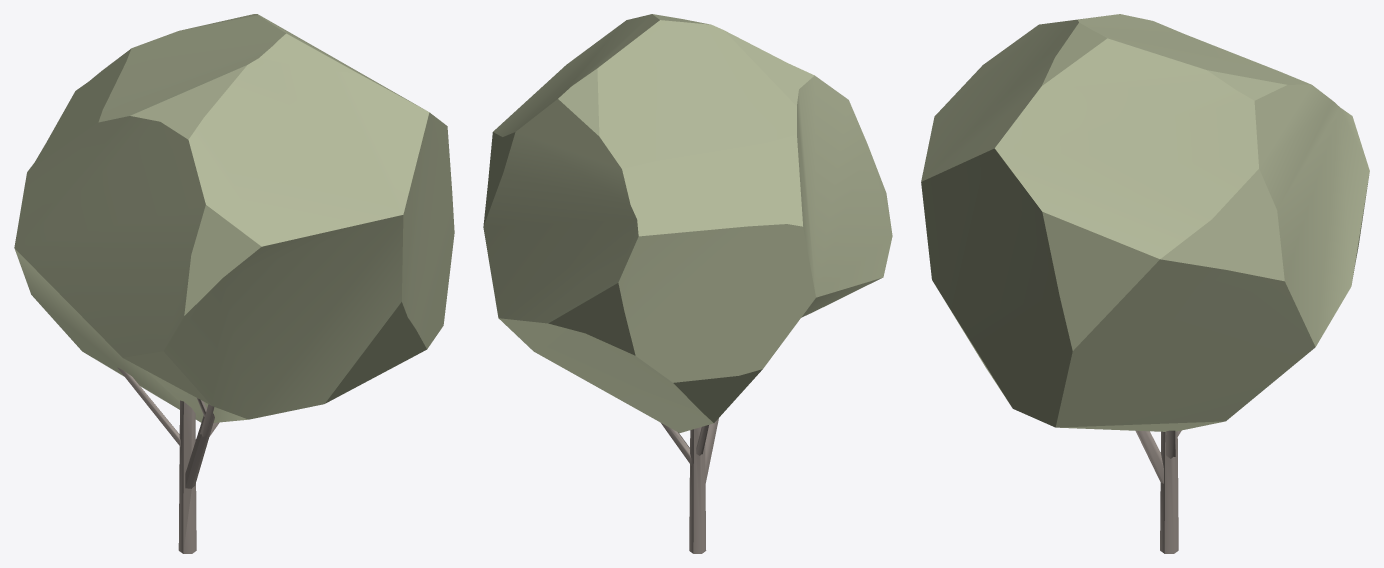
Rendered from tree10.dae.
3 views of the same model, side by side, from view 1: azimuth 30°, elevation 25°; view 2: azimuth 150°, elevation 25°; view 3: azimuth 270°, elevation 25° (orthographic). The views are drawn at different scales.
Parts seen in each view (by area): view 1: SketchUp, SketchUp_001; view 2: SketchUp, SketchUp_001; view 3: SketchUp, SketchUp_001.
Boxes of the visible parts, x1=… form: SketchUp: x1=14, y1=14, x2=454, y2=422; SketchUp_001: x1=117, y1=367, x2=219, y2=553; SketchUp: x1=483, y1=14, x2=892, y2=433; SketchUp_001: x1=661, y1=418, x2=718, y2=553; SketchUp: x1=921, y1=14, x2=1369, y2=431; SketchUp_001: x1=1135, y1=430, x2=1181, y2=553.
Bounding box in the file's own units: 291 × 291 × 392.
